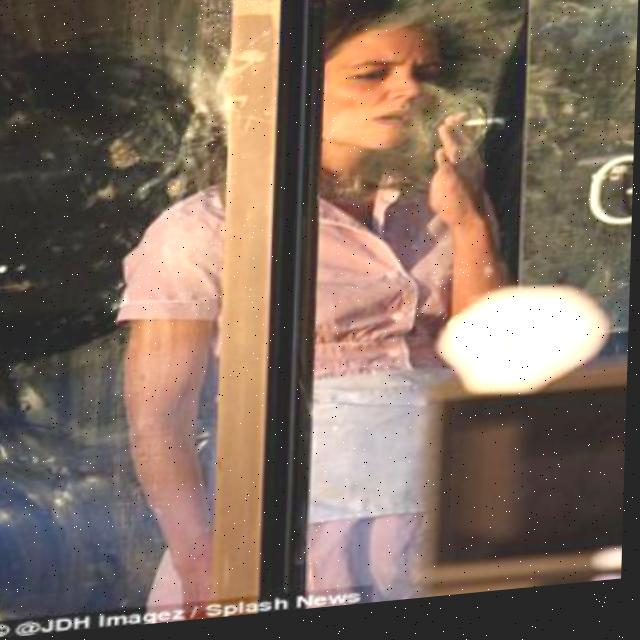cigarette: (455, 123, 507, 139)
